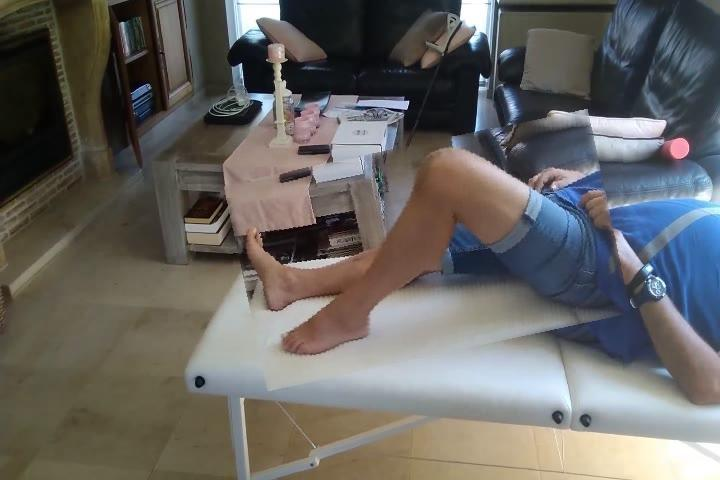lower_body: (234, 129, 624, 375)
